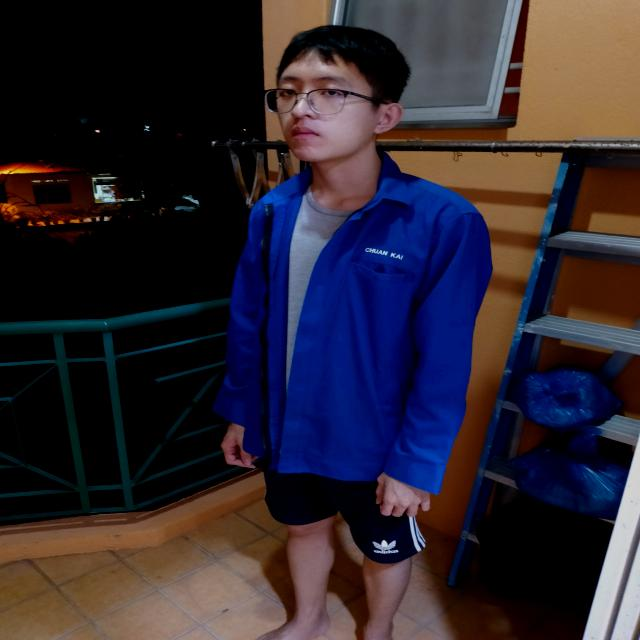person_with_labcoat: (213, 26, 492, 640)
